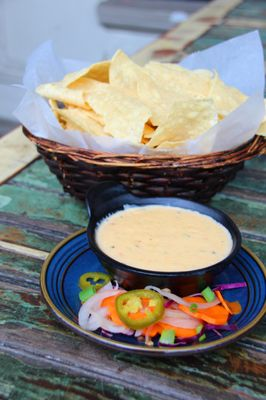sandwich: (134, 0, 247, 66)
sushi: (18, 72, 266, 204), (21, 128, 265, 204), (84, 188, 243, 296)
